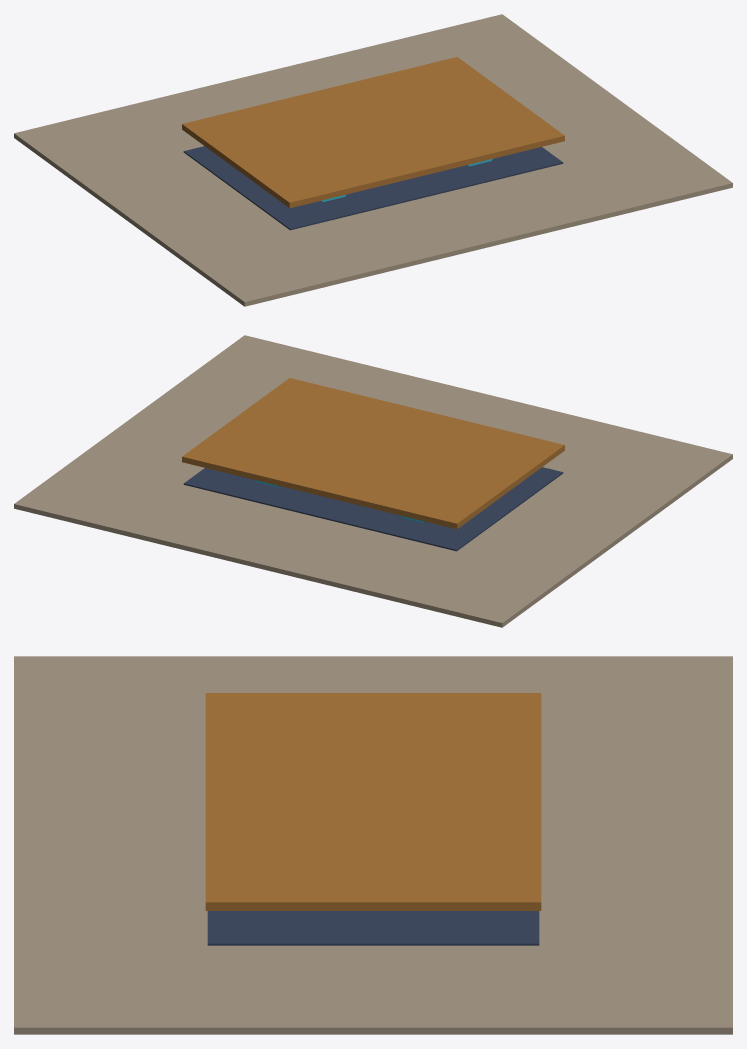
The model's file is stage_03_foundation_reinforcement.glb.
3 views of the same model, one above another, from view 1: azimuth 30°, elevation 25°; view 2: azimuth 150°, elevation 25°; view 3: azimuth 270°, elevation 25° (orthographic). The views are drawn at different scales.
Parts seen in each view (by area): view 1: world; view 2: world; view 3: world.
Boxes of the visible parts, x1,y1,x2,y2 form: world: [14, 14, 732, 306]; world: [14, 335, 732, 627]; world: [14, 656, 732, 1034].
Size of the model in its own units: 11 by 0.71 by 9.
